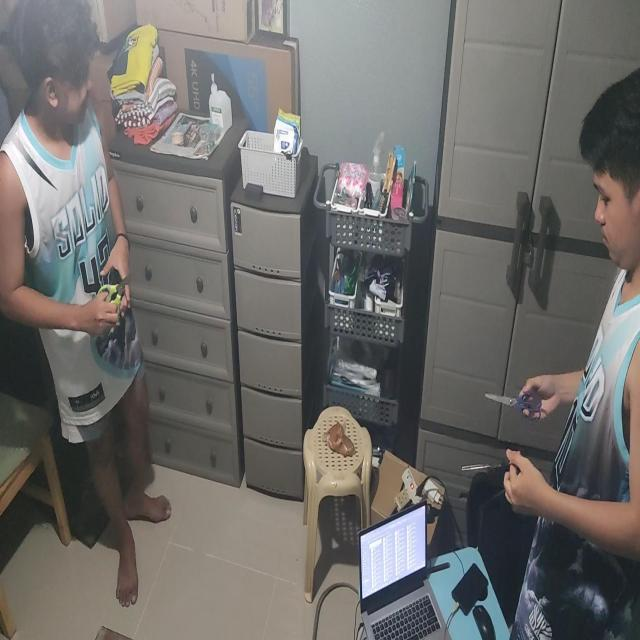scissor: (485, 389, 542, 423), (461, 454, 521, 484), (98, 275, 129, 322)
